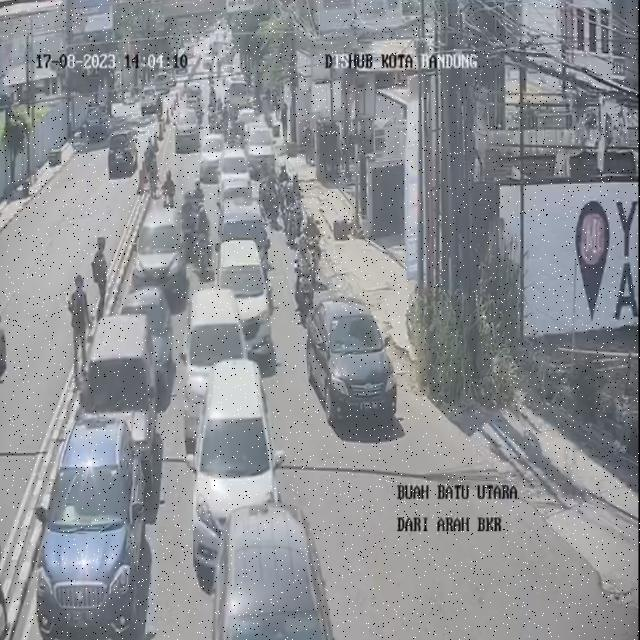cars: (36, 410, 150, 636), (194, 362, 286, 567), (210, 502, 333, 639), (77, 308, 158, 461), (312, 295, 397, 422), (178, 286, 248, 438), (220, 237, 276, 364), (122, 284, 176, 390), (139, 200, 185, 294), (219, 196, 270, 278), (218, 175, 254, 236), (245, 115, 275, 179), (218, 145, 248, 200), (203, 129, 227, 182), (229, 72, 253, 116)
motorcycle: (292, 238, 318, 327), (194, 202, 214, 276), (182, 190, 198, 269), (283, 174, 299, 230), (260, 155, 274, 206), (190, 178, 207, 217), (162, 168, 176, 212), (289, 200, 304, 240), (210, 99, 223, 133)
